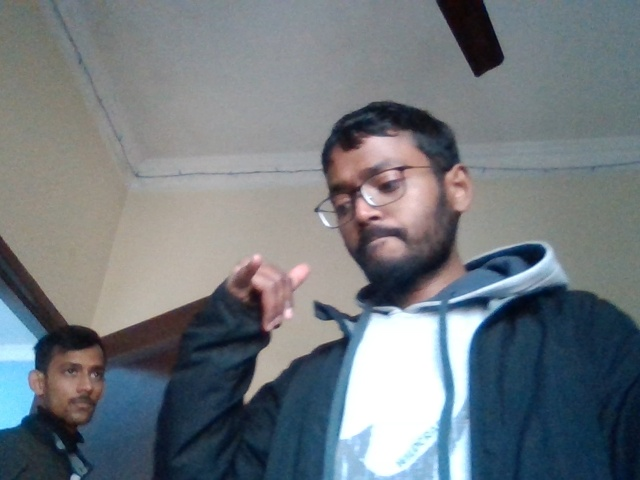telephone: (228, 236, 313, 330)
